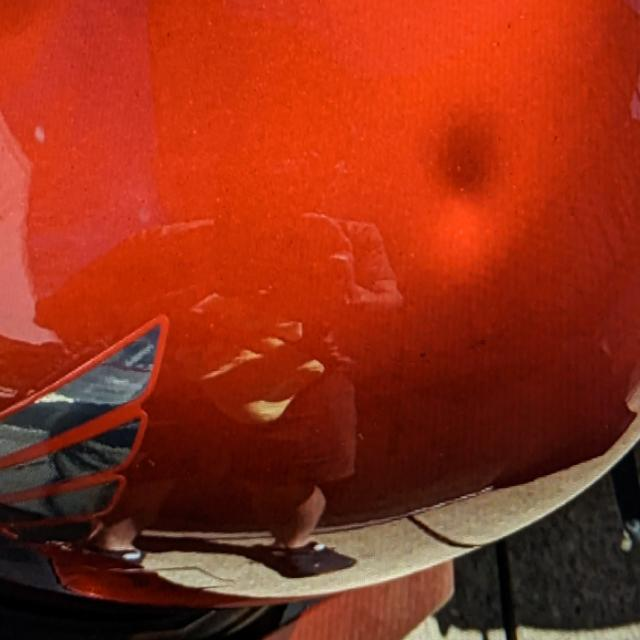dents: (401, 76, 531, 275)
